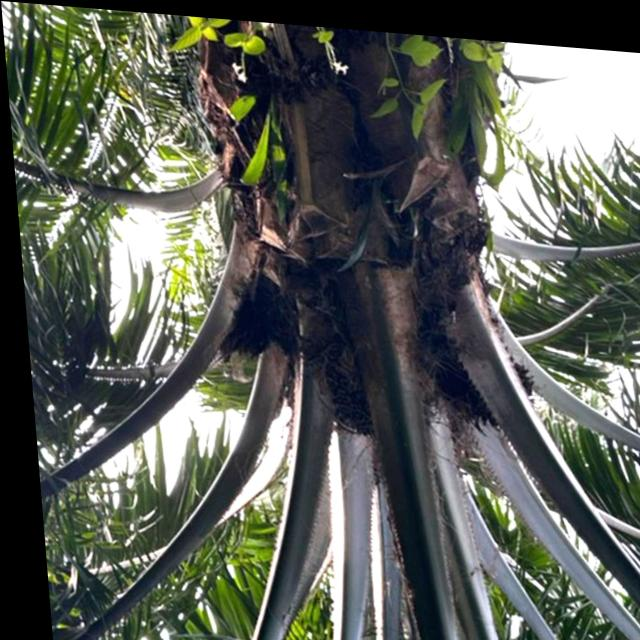unripe: (420, 313, 541, 435), (295, 311, 388, 452)
